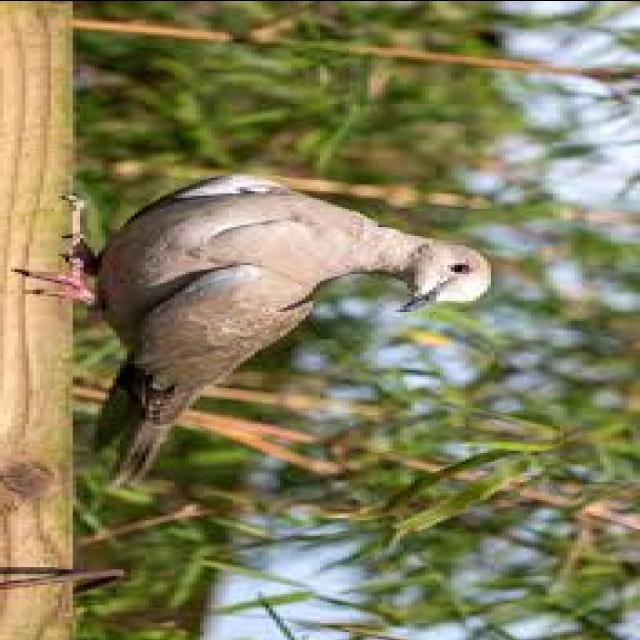pigeon: (57, 143, 516, 496)
